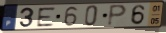0: (85, 4, 101, 28)
3: (18, 6, 37, 28)
6: (131, 4, 148, 26), (64, 6, 79, 28)
E: (36, 6, 57, 28)
P: (106, 4, 129, 28)
